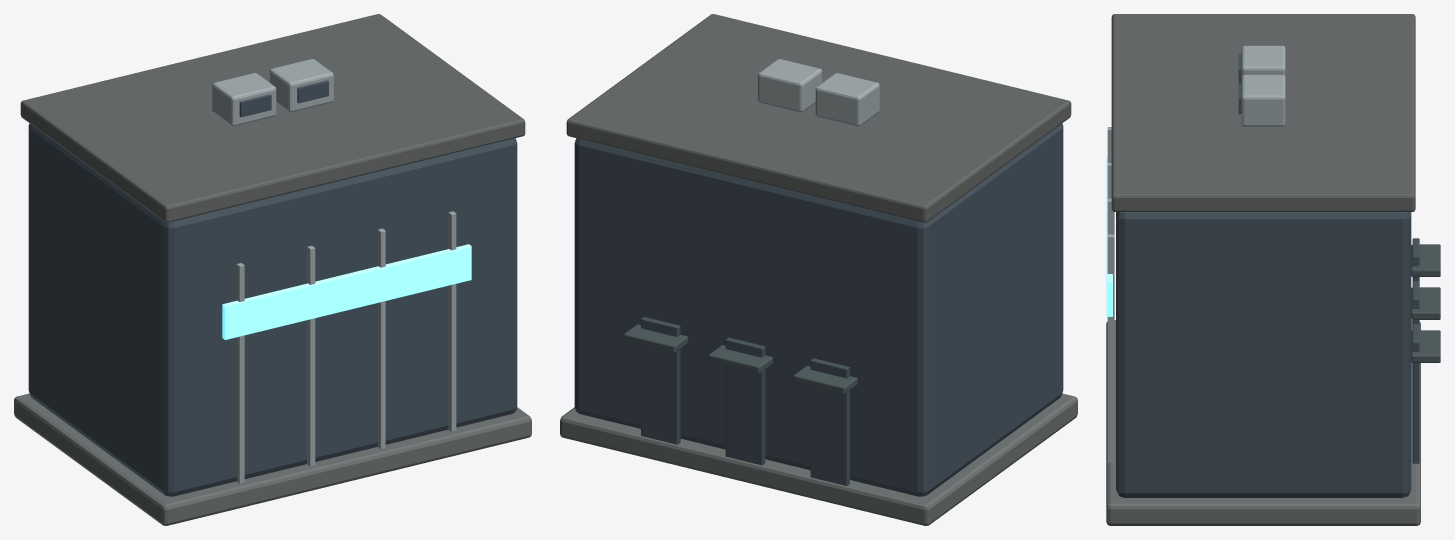
File: industrial_logistics_depot.glb
3 views of the same model, side by side, from view 1: azimuth 30°, elevation 25°; view 2: azimuth 150°, elevation 25°; view 3: azimuth 270°, elevation 25° (orthographic). The views are drawn at different scales.
Parts seen in each view (by area): view 1: main_massing, roof_slab, foundation, industrial_window_strip, hvac_unit, hvac_unit.001, cladding_rib.001, cladding_rib, cladding_rib.002, cladding_rib.003; view 2: main_massing, roof_slab, foundation, loading_door.001, loading_door, loading_door.002, hvac_unit, hvac_unit.001, loading_canopy, loading_canopy.001, loading_canopy.002; view 3: main_massing, roof_slab, foundation, hvac_unit.001, cladding_rib.003, hvac_unit, loading_door.002, loading_canopy, loading_canopy.001, loading_canopy.002, industrial_window_strip.
Boxes of the visible parts, bbox=[...] form: main_massing: bbox=[28, 123, 517, 496]; roof_slab: bbox=[20, 14, 525, 222]; foundation: bbox=[14, 393, 531, 525]; industrial_window_strip: bbox=[222, 244, 471, 339]; hvac_unit: bbox=[212, 73, 276, 126]; hvac_unit.001: bbox=[269, 59, 333, 112]; cladding_rib.001: bbox=[307, 245, 315, 466]; cladding_rib: bbox=[236, 263, 244, 483]; cladding_rib.002: bbox=[377, 228, 385, 449]; cladding_rib.003: bbox=[448, 211, 456, 432]; main_massing: bbox=[574, 123, 1063, 496]; roof_slab: bbox=[566, 14, 1071, 222]; foundation: bbox=[560, 393, 1077, 525]; loading_door.001: bbox=[725, 337, 765, 465]; loading_door: bbox=[810, 358, 849, 485]; loading_door.002: bbox=[641, 317, 680, 444]; hvac_unit: bbox=[815, 73, 879, 126]; hvac_unit.001: bbox=[758, 59, 822, 112]; loading_canopy: bbox=[793, 365, 857, 394]; loading_canopy.001: bbox=[708, 345, 772, 373]; loading_canopy.002: bbox=[623, 324, 688, 352]; main_massing: bbox=[1116, 212, 1411, 497]; roof_slab: bbox=[1111, 14, 1415, 211]; foundation: bbox=[1106, 320, 1420, 525]; hvac_unit.001: bbox=[1241, 75, 1285, 126]; cladding_rib.003: bbox=[1107, 234, 1114, 462]; hvac_unit: bbox=[1241, 45, 1285, 76]; loading_door.002: bbox=[1412, 324, 1419, 463]; loading_canopy: bbox=[1411, 244, 1440, 276]; loading_canopy.001: bbox=[1411, 287, 1440, 319]; loading_canopy.002: bbox=[1411, 330, 1440, 362]; industrial_window_strip: bbox=[1106, 157, 1112, 316].
Size of the model in its own units: 1.8 by 1.63 by 1.36.
